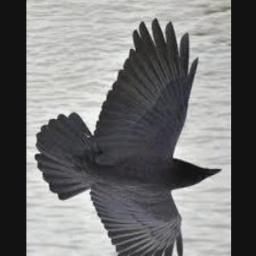Crow: (34, 20, 221, 256)
